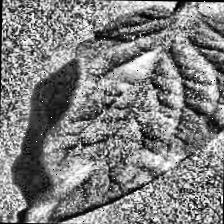leaf mold: (24, 5, 224, 224)
